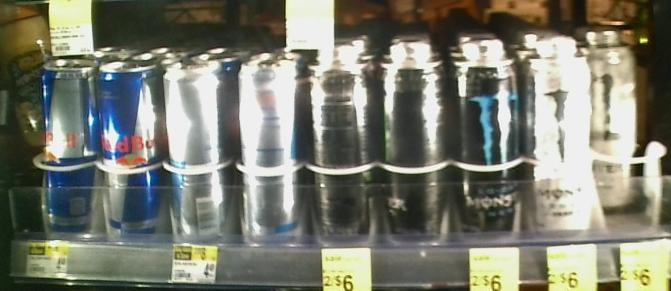bottle: (380, 36, 451, 243), (309, 38, 378, 242), (453, 34, 520, 238), (525, 32, 591, 236), (164, 60, 235, 242), (237, 61, 304, 243), (34, 57, 98, 237), (101, 61, 162, 241), (594, 32, 637, 212)
